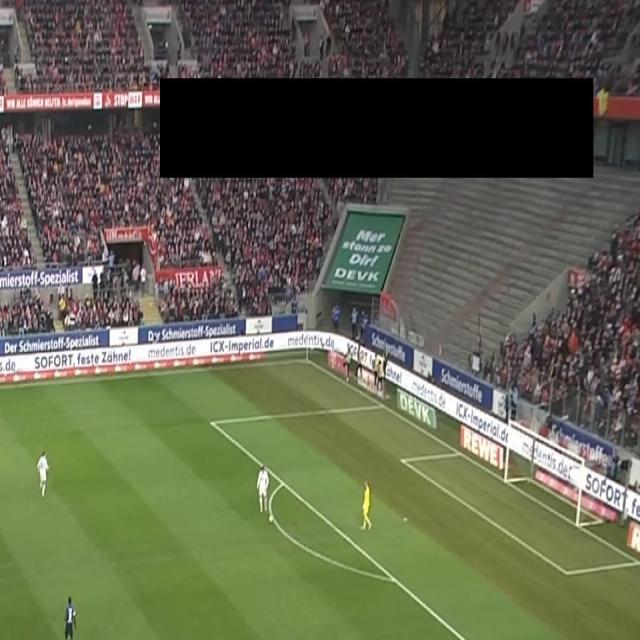ball: (268, 513, 274, 523)
